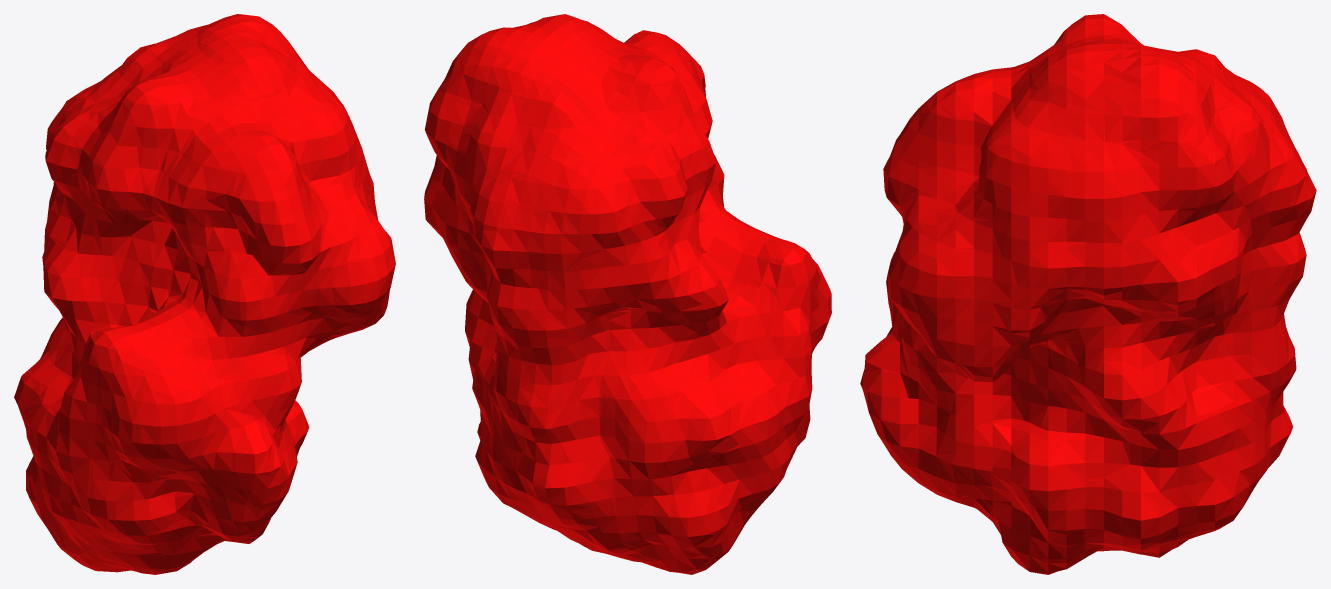
Rendered from tas_coarse.dae.
3 renders of one model, left to right at view 1: azimuth 30°, elevation 25°; view 2: azimuth 150°, elevation 25°; view 3: azimuth 270°, elevation 25°, orthographic. The views are drawn at different scales.
Visible parts, largest first — view 1: tas; view 2: tas; view 3: tas.
Boxes of the visible parts, bbox=[...] form: tas: bbox=[14, 14, 395, 574]; tas: bbox=[424, 14, 831, 574]; tas: bbox=[860, 14, 1316, 574].
Size of the model in its own units: 59.62 by 88.29 by 64.67.
